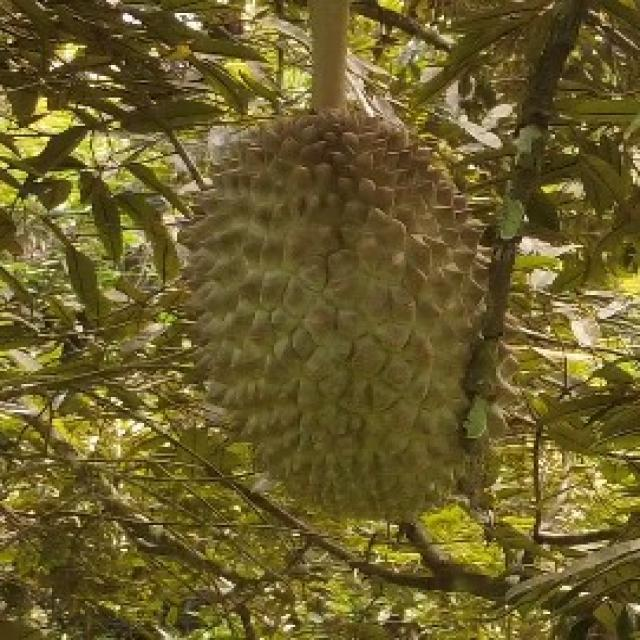mature: (179, 109, 509, 517)
